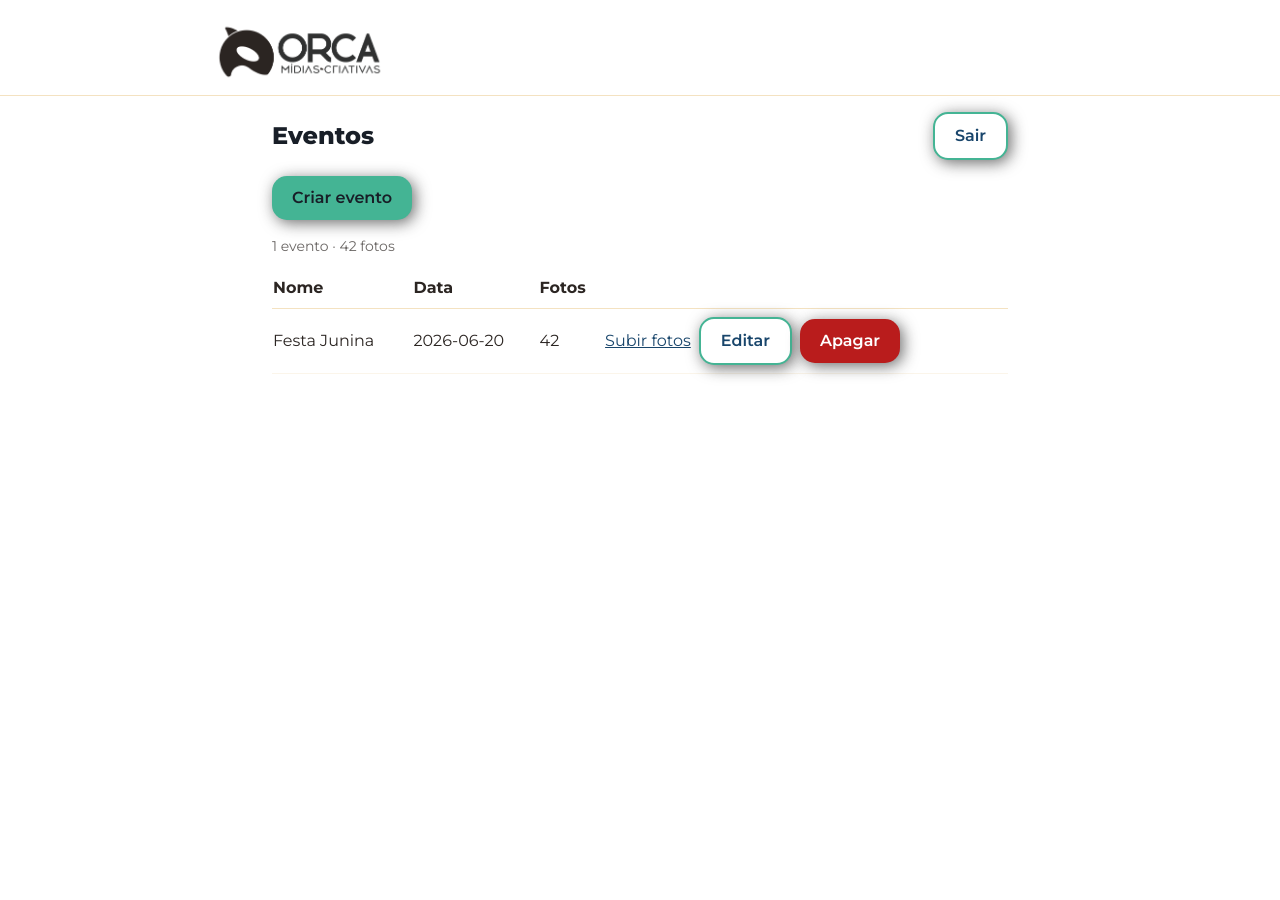
Scenario: AdminEventsPage › does not leak an in-progress create draft into the row being edited
Expected: the text "Festa Junina" is shown, [272,308,412,373]
Click the button "Criar evento".
click(342, 198)  # box [272,176,412,220]
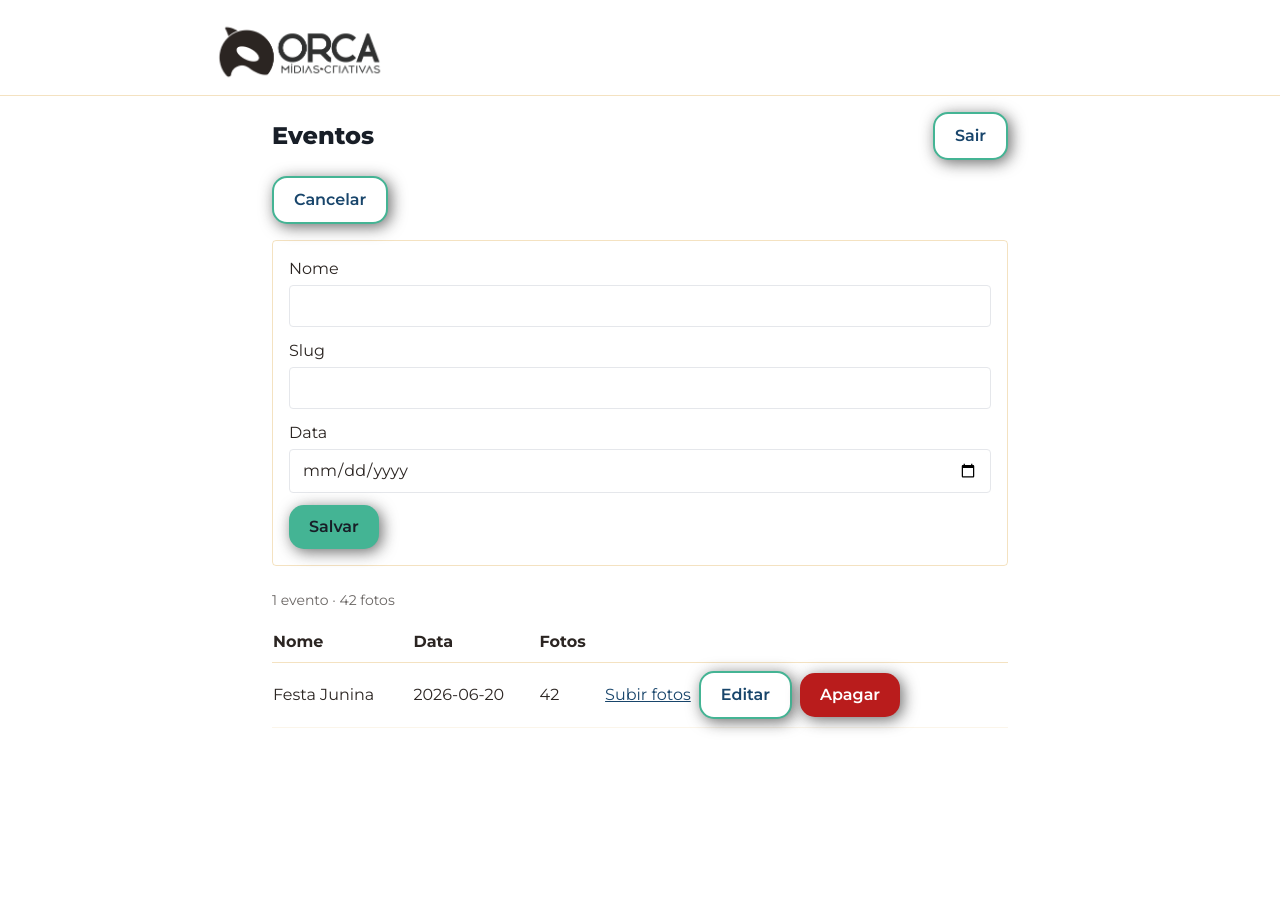
Type "Rascunho não salvo" into the field labelled "Nome".
click(640, 306); type("Rascunho não salvo")  # box [289,285,991,327]
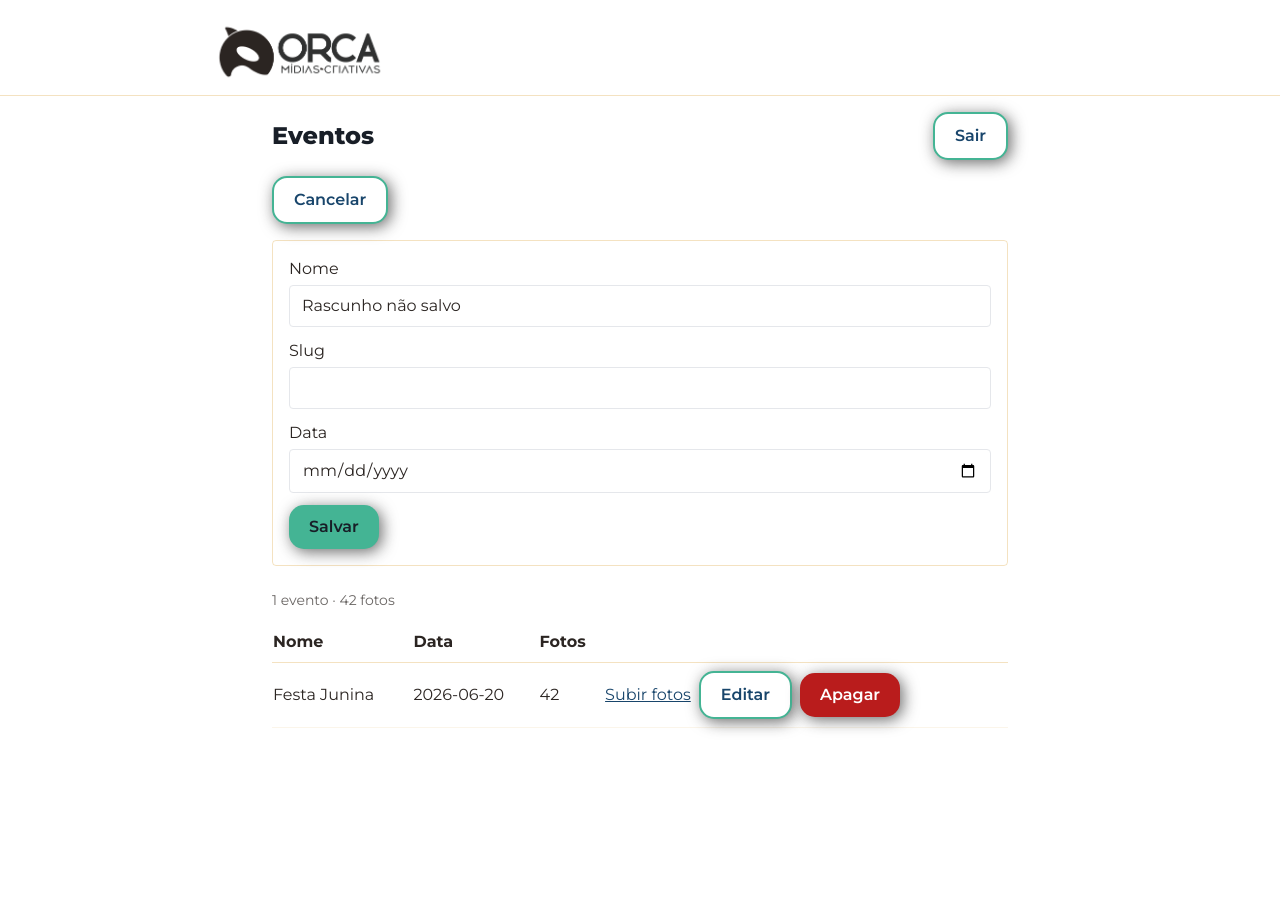
Click the button "Editar".
click(745, 695)  # box [699,671,792,719]
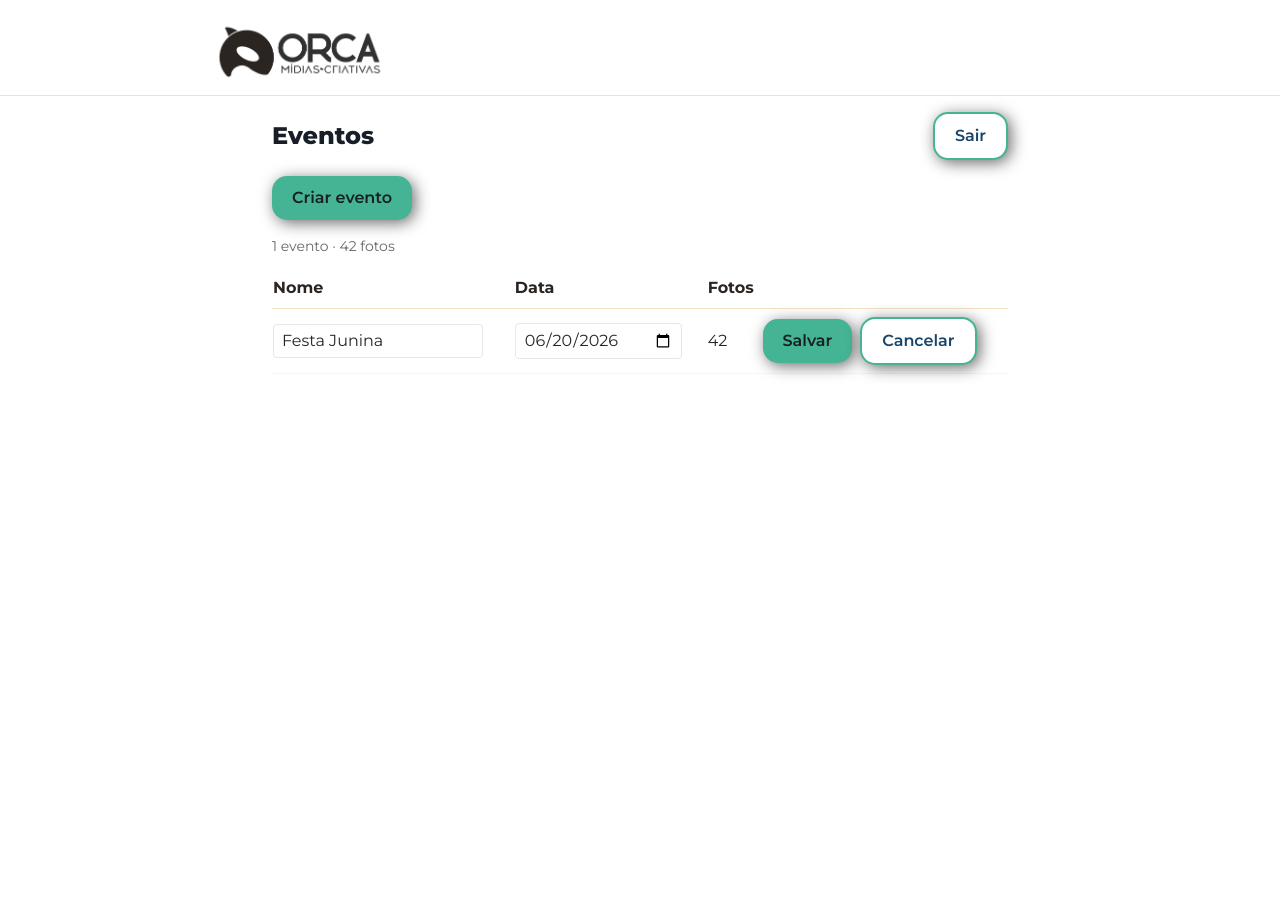
Expected: the field showing "Rascunho não salvo" is not shown
Expected: the field showing "Festa Junina" is shown, [273,324,483,358]
